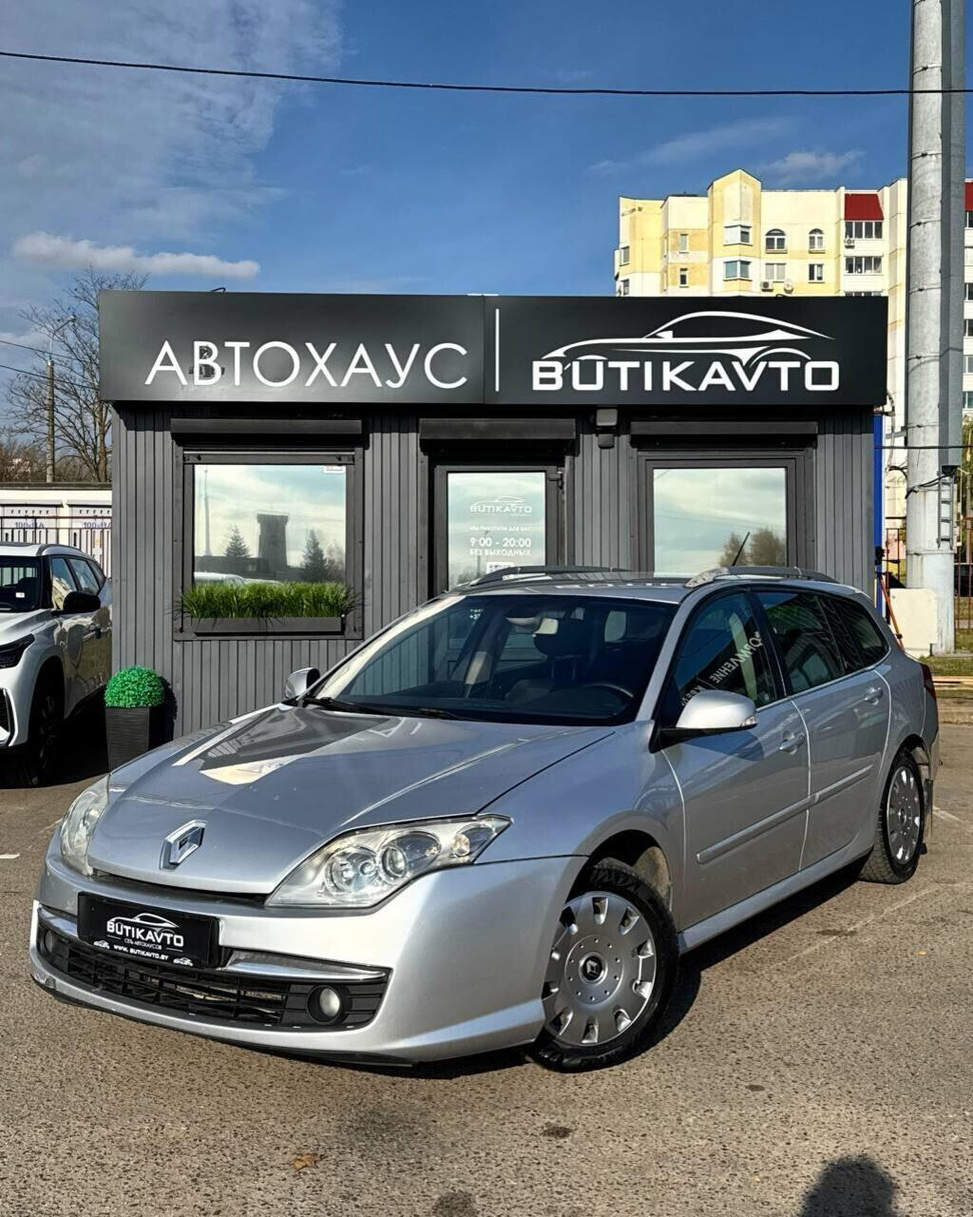Laguna_2007-2011: (29, 568, 938, 1072)
